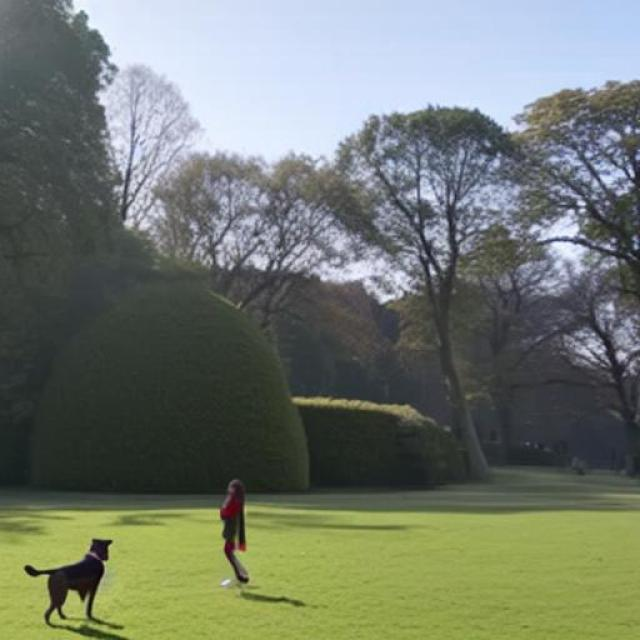Unleashed_Dog: (22, 537, 250, 622)
